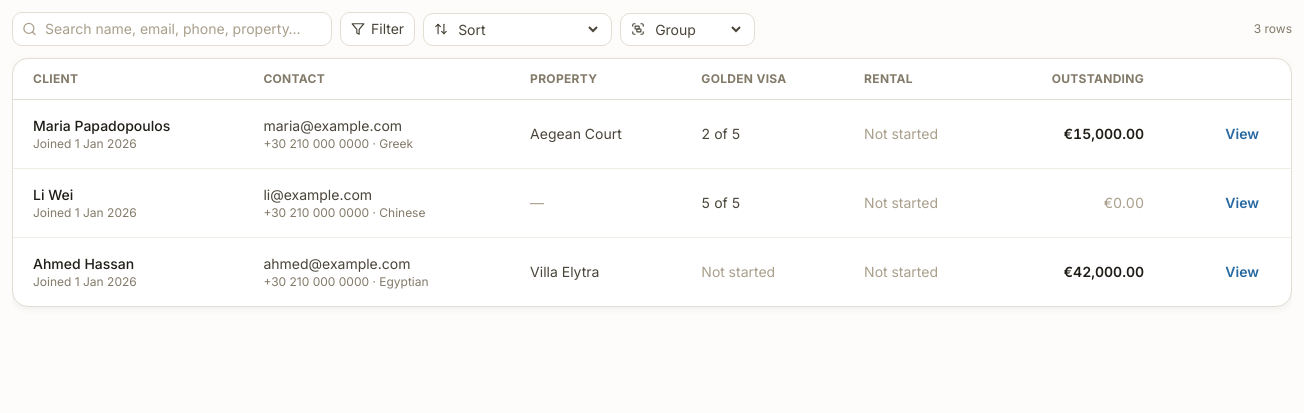
Scenario: filtering the roster › exposes derived visa status as a filterable column
Click the button "Filter".
click(378, 29)  # box x1=340 y1=12 x2=415 y2=46
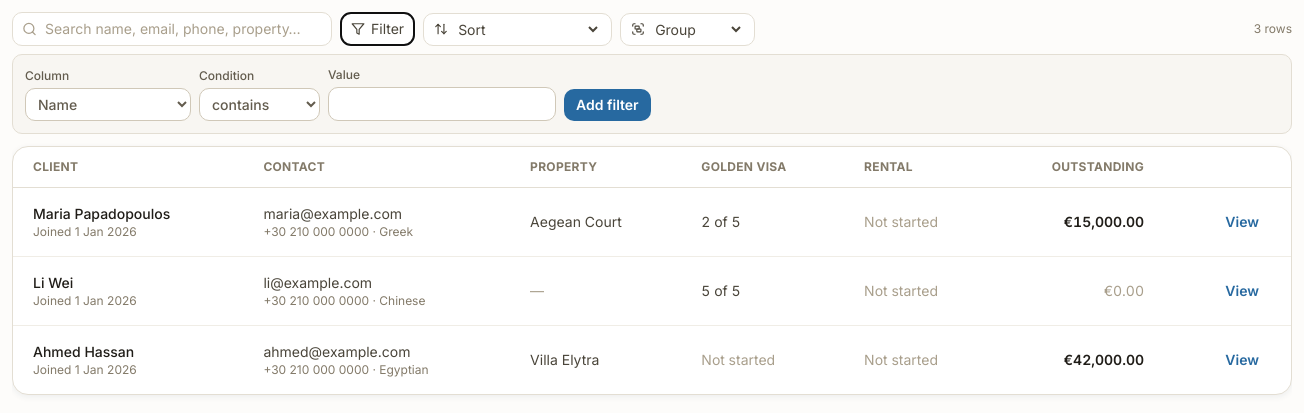
Select "Visa status" in the dropdown named "Filter column" at (108, 104), box x1=25 y1=88 x2=191 y2=121
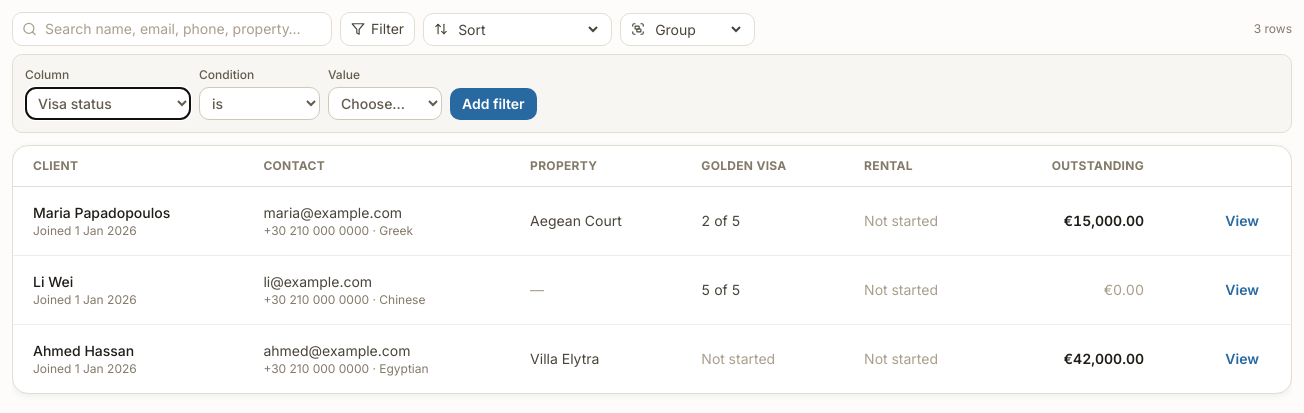
Select "Not started" in the dropdown named "Filter value" at (385, 104), box x1=328 y1=87 x2=442 y2=120
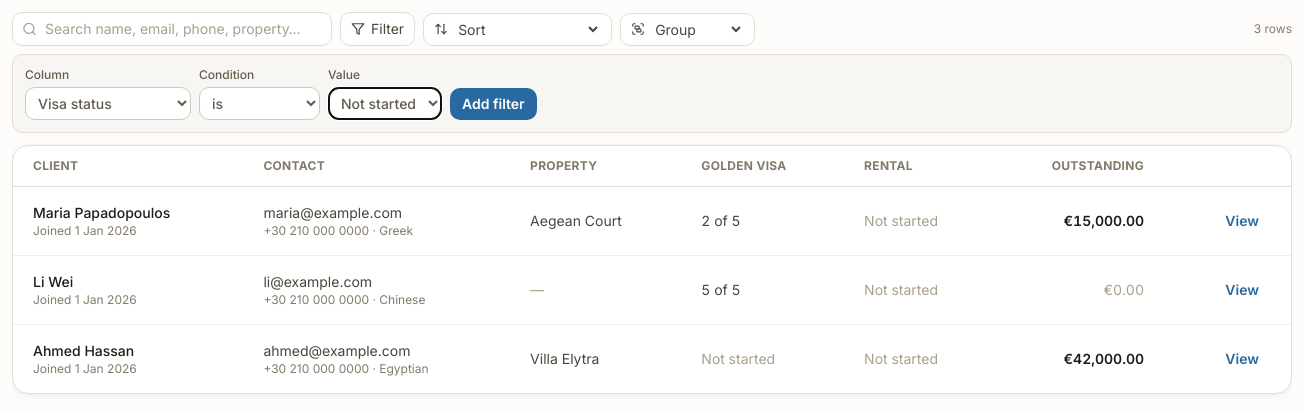
Click the button "Add filter".
click(493, 104)  # box x1=450 y1=88 x2=537 y2=120
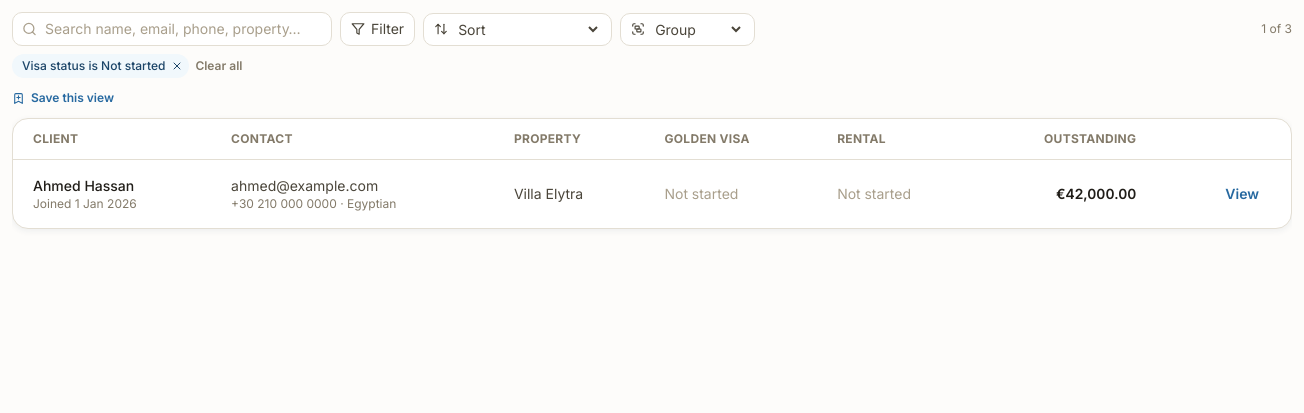
Expected: the text "Ahmed Hassan" is shown, x1=33 y1=177 x2=134 y2=194
Expected: the text "Li Wei" is gone
